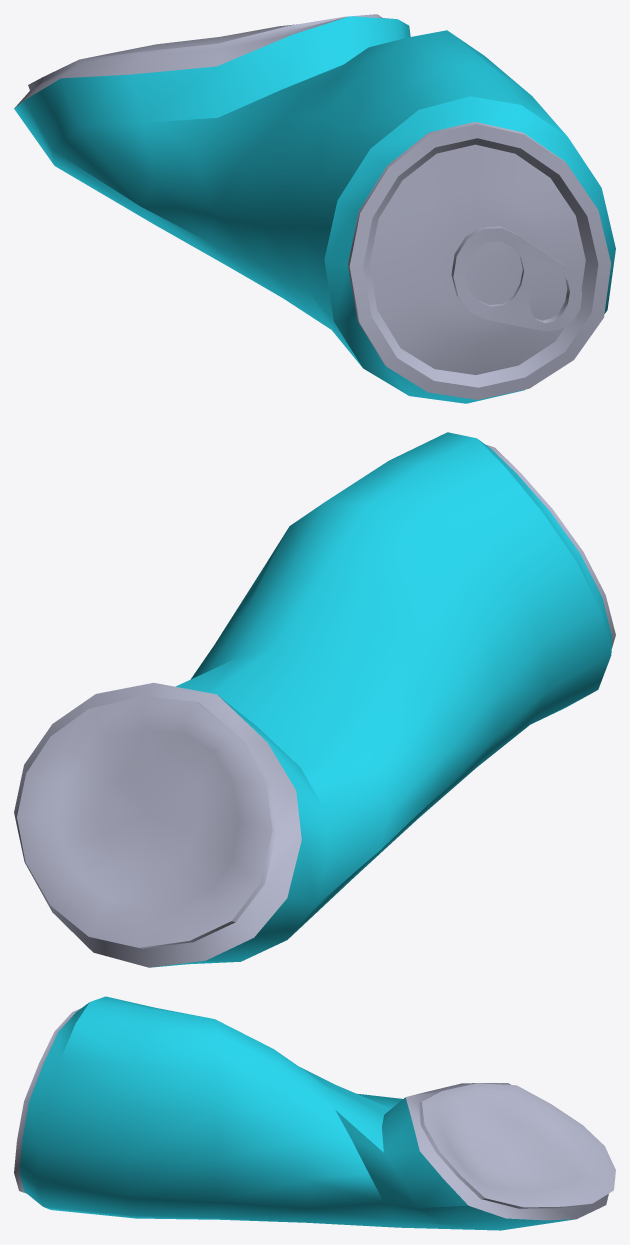
File: Misc_BeverageCan_02_Crushed_B.fbx
3 renders of one model, top to bottom at view 1: azimuth 30°, elevation 25°; view 2: azimuth 150°, elevation 25°; view 3: azimuth 270°, elevation 25°, orthographic. The views are drawn at different scales.
Visible parts, largest first — view 1: Misc_BeverageCan_02_Crushed_B.001; view 2: Misc_BeverageCan_02_Crushed_B.001; view 3: Misc_BeverageCan_02_Crushed_B.001.
Boxes of the visible parts, x1=… form: Misc_BeverageCan_02_Crushed_B.001: x1=14, y1=14, x2=615, y2=403; Misc_BeverageCan_02_Crushed_B.001: x1=14, y1=432, x2=615, y2=967; Misc_BeverageCan_02_Crushed_B.001: x1=14, y1=996, x2=615, y2=1230.
Size of the model in its own units: 0.0844 by 0.0716 by 0.184.
